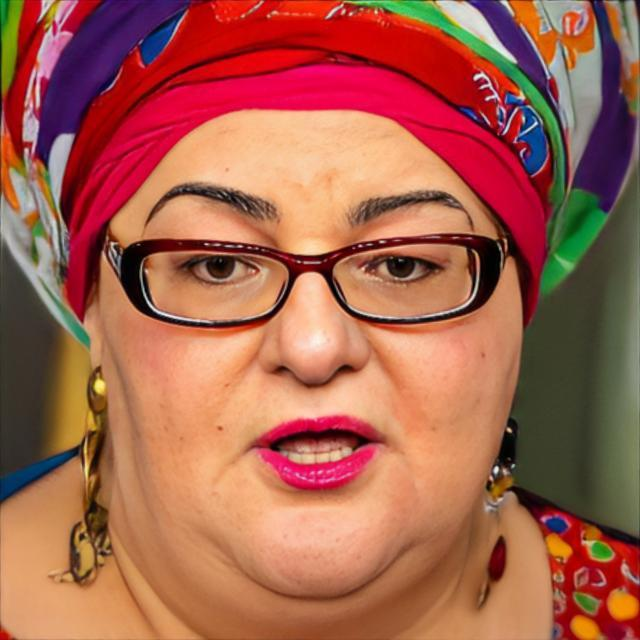anger: (112, 98, 521, 602)
